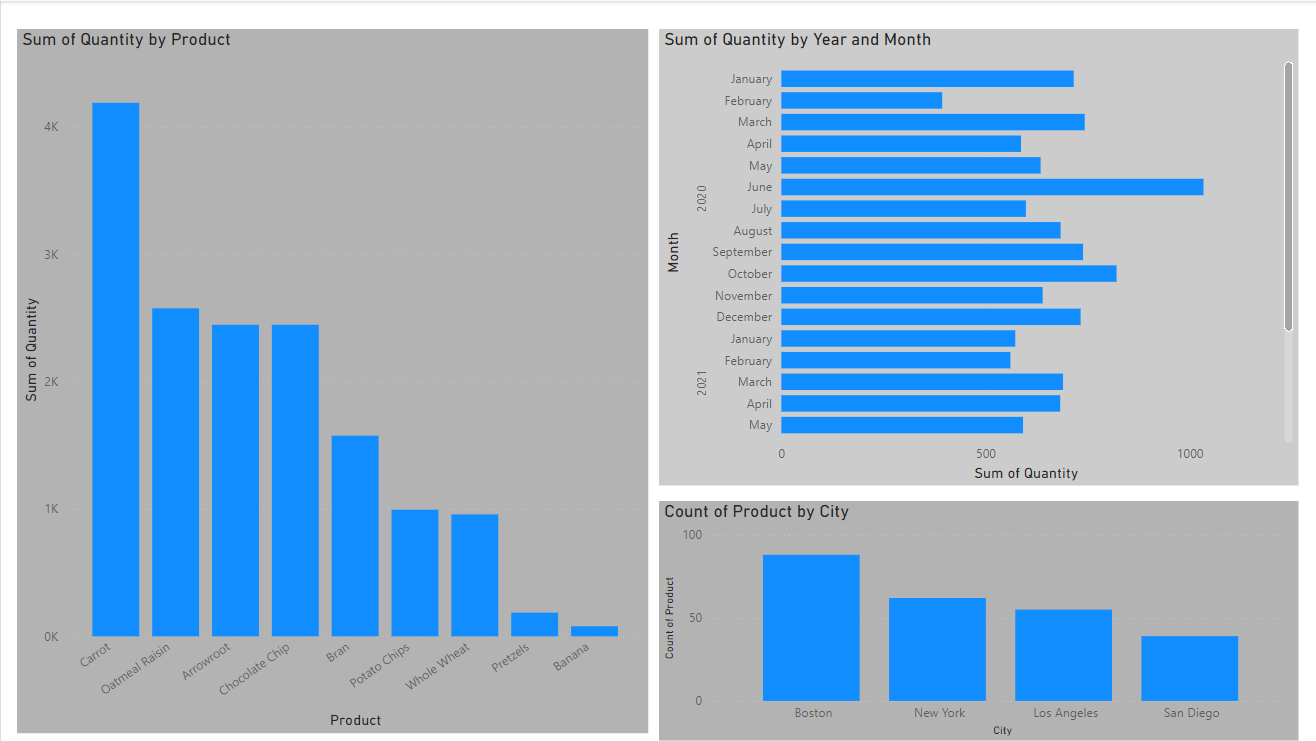

This screenshot's page, from the dashboard's own definition file:
{"tool":"powerbi","page":{"name":"Page 1","canvas":[1280,720],"ordinal":0},"visuals":[{"type":"clusteredColumnChart","fields":{"Category":["FoodSales.Product"],"Y":["Sum(FoodSales.Quantity)"]},"box":[8.8,0,546.6,481.5],"z":0},{"type":"clusteredColumnChart","fields":{"Category":["FoodSales.OrderDate.Variation.Date Hierarchy.Year","FoodSales.OrderDate.Variation.Date Hierarchy.Month"],"Y":["Sum(FoodSales.Quantity)"]},"box":[640,27.2,621.5,444.5],"z":2},{"type":"card","fields":{"Values":["Sum(Sales_Data.Total Sales)"]},"box":[52.5,502.9,294.7,149.8],"z":3},{"type":"columnChart","fields":{"Category":["FoodSales.City"],"Y":["CountNonNull(FoodSales.Product)"]},"box":[743.1,475.6,489.2,204.3],"z":4},{"type":"card","fields":{"Values":["Sum(FoodSales.Quantity)"]},"box":[348,503,208,150],"z":5}]}

Visuals, with their boxes in screenshot pixels (x1, y1, x2, y2), scaled from the page's 1280x720 canvas onto the 1316x741 screenshot:
clusteredColumnChart - FoodSales.Product x Sum(FoodSales.Quantity): [9,0,571,496]
clusteredColumnChart - FoodSales.OrderDate.Variation.Date Hierarchy.Year x FoodSales.OrderDate.Variation.Date Hierarchy.Month: [658,28,1297,485]
card - Sum(Sales_Data.Total Sales): [54,518,357,672]
columnChart - FoodSales.City x CountNonNull(FoodSales.Product): [764,489,1267,700]
card - Sum(FoodSales.Quantity): [358,518,572,672]
